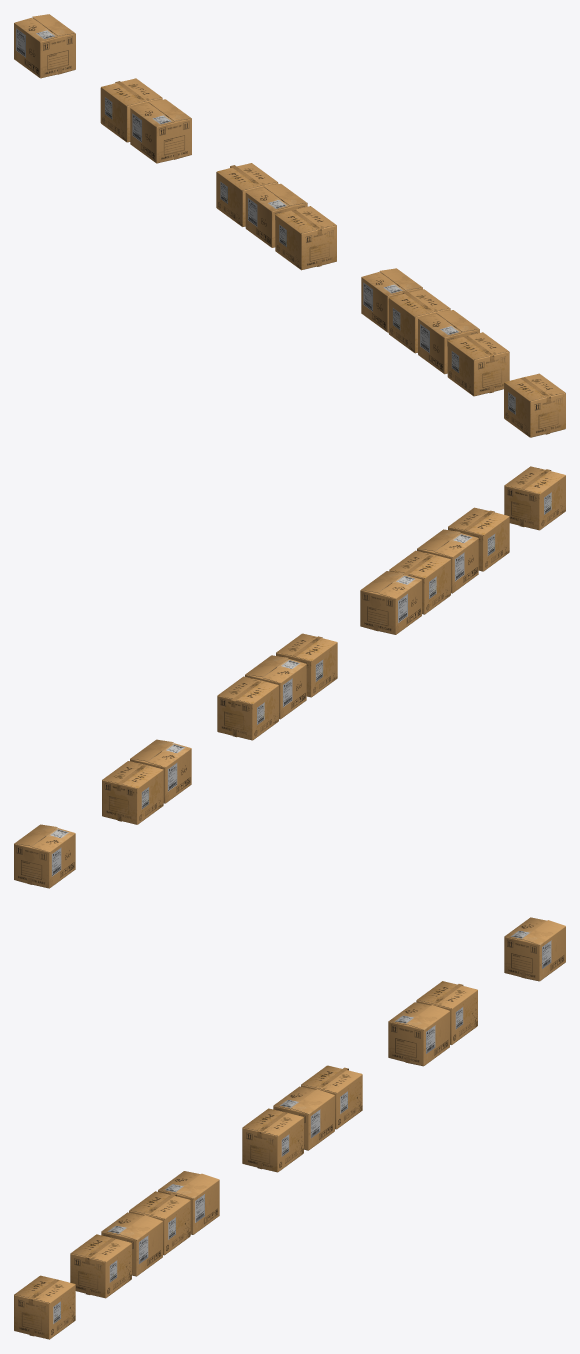
The model's file is randombox.obj.
3 views of the same model, one above another, from view 1: azimuth 30°, elevation 25°; view 2: azimuth 150°, elevation 25°; view 3: azimuth 330°, elevation 25° (orthographic).
Parts seen in each view (by area): view 1: Object_9.001, Object_9.002, Object_10.007, Object_10.005, Object_10.006, Object_9.005, Object_9.006, Object_10, Object_9.008, Object_10.008, Object_10.003; view 2: Object_9.002, Object_9.008, Object_10, Object_10.003, Object_10.007, Object_10.006, Object_10.005, Object_9.001, Object_9.006, Object_9.005, Object_10.008; view 3: Object_9.001, Object_9.002, Object_10.007, Object_10.005, Object_10.006, Object_9.005, Object_9.006, Object_9.008, Object_10, Object_10.008, Object_10.003.
Part boxes in pixels (bbox=[...]): Object_9.001: bbox=[130, 99, 191, 163]; Object_9.002: bbox=[14, 14, 75, 78]; Object_10.007: bbox=[504, 373, 565, 437]; Object_10.005: bbox=[275, 206, 336, 270]; Object_10.006: bbox=[447, 332, 509, 396]; Object_9.005: bbox=[245, 183, 307, 247]; Object_9.006: bbox=[418, 310, 479, 374]; Object_10: bbox=[100, 78, 162, 142]; Object_9.008: bbox=[361, 268, 422, 332]; Object_10.008: bbox=[388, 289, 450, 353]; Object_10.003: bbox=[216, 163, 278, 226]; Object_9.002: bbox=[14, 824, 75, 888]; Object_9.008: bbox=[360, 571, 421, 634]; Object_10: bbox=[102, 761, 163, 824]; Object_10.003: bbox=[217, 676, 278, 740]; Object_10.007: bbox=[504, 466, 565, 530]; Object_10.006: bbox=[448, 507, 509, 571]; Object_10.005: bbox=[276, 633, 337, 697]; Object_9.001: bbox=[130, 739, 191, 803]; Object_9.006: bbox=[417, 529, 478, 593]; Object_9.005: bbox=[245, 655, 306, 719]; Object_10.008: bbox=[389, 550, 450, 614]; Object_9.001: bbox=[388, 1002, 449, 1066]; Object_9.002: bbox=[504, 917, 565, 981]; Object_10.007: bbox=[14, 1275, 75, 1339]; Object_10.005: bbox=[242, 1108, 303, 1172]; Object_10.006: bbox=[70, 1234, 131, 1298]; Object_9.005: bbox=[273, 1086, 334, 1150]; Object_9.006: bbox=[101, 1212, 162, 1276]; Object_9.008: bbox=[158, 1171, 219, 1234]; Object_10: bbox=[416, 981, 477, 1044]; Object_10.008: bbox=[129, 1191, 190, 1255]; Object_10.003: bbox=[301, 1065, 362, 1129].
Bounding box in the file's own units: 0.4242 × 0.4327 × 10.43.
Materials: 17 (17 with a texture image).
